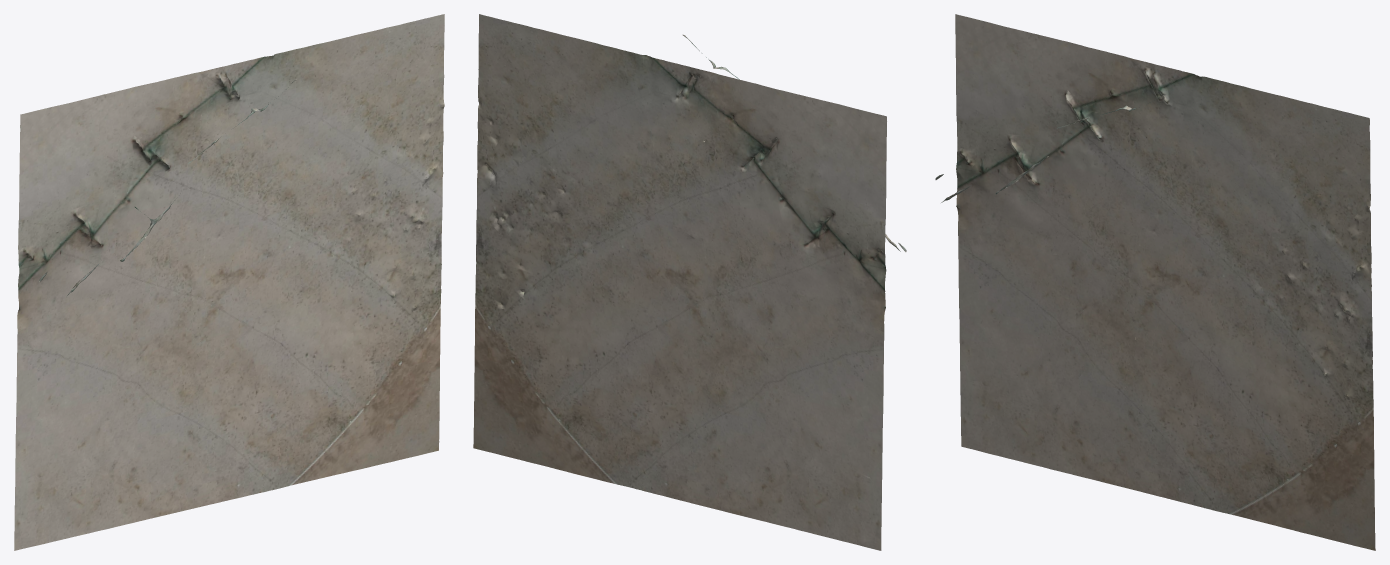
Rendered from Tile_+022_+009.fbx.
3 renders of one model, left to right at view 1: azimuth 30°, elevation 25°; view 2: azimuth 150°, elevation 25°; view 3: azimuth 330°, elevation 25°, orthographic. The views are drawn at different scales.
Visible parts, largest first — view 1: DefaultName; view 2: DefaultName; view 3: DefaultName.
Part boxes in pixels (x1,y1,x2,y2): DefaultName: (14, 14, 444, 550); DefaultName: (473, 14, 906, 550); DefaultName: (935, 14, 1375, 550).
Bounding box in the file's own units: 22.54 × 22.54 × 3.68.
